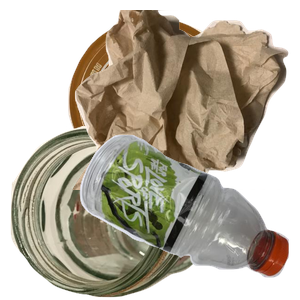glass: (10, 126, 220, 300)
metal: (66, 15, 297, 193)
plastic: (77, 132, 300, 300)
trash: (70, 10, 300, 190)
